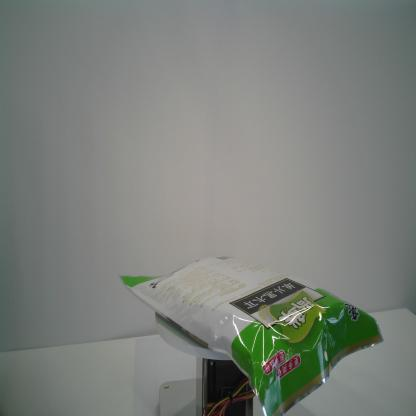Dried Food: (118, 255, 384, 416)
